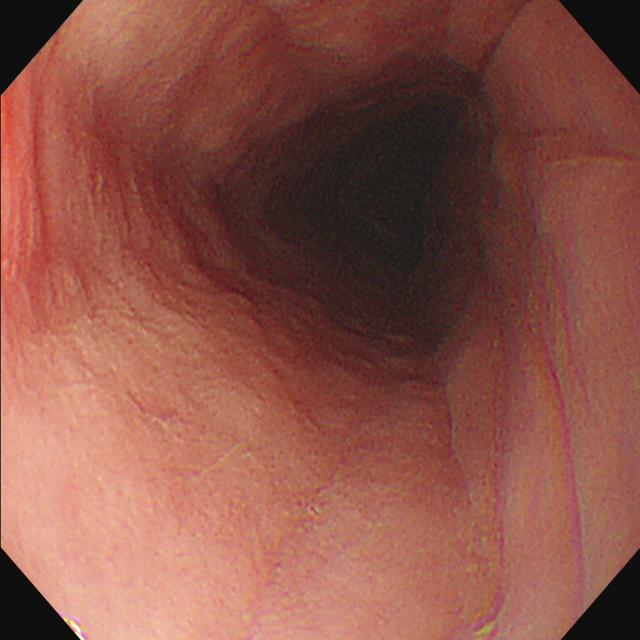E: (210, 49, 502, 366)
